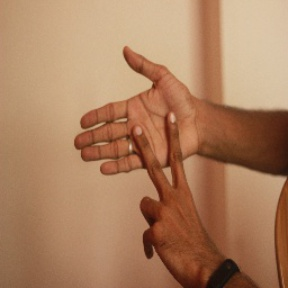N: (74, 44, 213, 227)
